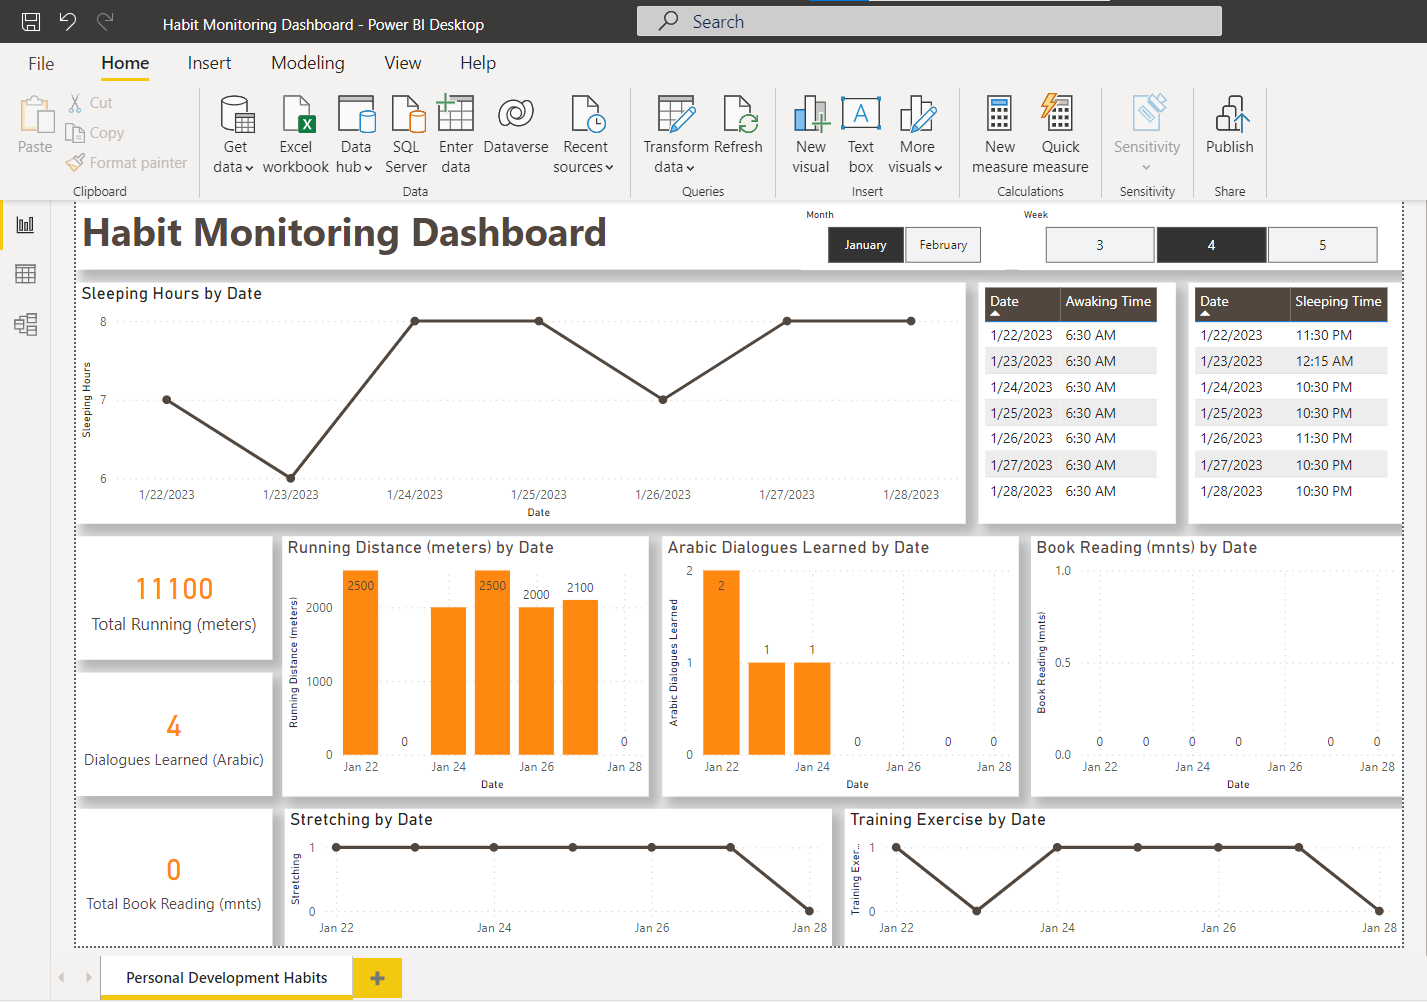

The page's visual inventory and layout, read from the dashboard file:
{"tool":"powerbi","page":{"name":"Personal Development Habits","canvas":[1280,720],"ordinal":0},"visuals":[{"type":"textbox","box":[0,0,1279.6,67.5],"z":0},{"type":"lineChart","fields":{"Category":["Dim_Date.Date"],"Y":["Sum(Fact_Data.Sleep Duration)"]},"box":[0,79.6,858.7,232.8],"z":1000},{"type":"tableEx","fields":{"Values":["Fact_Data.Date","Fact_Data.Awaking Time"]},"box":[870.8,79.6,190.6,232.8],"z":2000},{"type":"slicer","title":"Month","fields":{"Values":["Dim_Date.Month Name"]},"box":[699.5,8.4,197.8,59.1],"z":3000},{"type":"slicer","title":"Week","fields":{"Values":["Dim_Date.Week of Month"]},"box":[909.3,8.4,370.3,59.1],"z":4000},{"type":"tableEx","fields":{"Values":["Fact_Data.Date","Fact_Data.Sleeping Time"]},"box":[1073.4,79.6,206.2,232.8],"z":5000},{"type":"card","fields":{"Values":["Basic Calculations.Total Running Distance"]},"box":[0,324.4,189.3,119.4],"z":6000},{"type":"card","fields":{"Values":["Basic Calculations.Total Dialogues Learned (Arabic)"]},"box":[0,455.9,189.3,119.4],"z":7000},{"type":"card","fields":{"Values":["Basic Calculations.Total Time (Book Reading)"]},"box":[0,587.3,189.3,132.7],"z":8000},{"type":"columnChart","fields":{"Category":["Dim_Date.Date"],"Y":["Sum(Fact_Data.Running Distance (meters))"]},"box":[199,324.4,353.4,250.9],"z":9000},{"type":"columnChart","fields":{"Category":["Dim_Date.Date"],"Y":["Sum(Fact_Data.Ara_lang Dialogues Learned)"]},"box":[565.6,324.4,343.7,250.9],"z":10000},{"type":"columnChart","fields":{"Category":["Dim_Date.Date"],"Y":["Sum(Fact_Data.Book Reading (mnts))"]},"box":[921.4,324.4,358.2,250.9],"z":11000},{"type":"lineChart","fields":{"Category":["Fact_Data.Date"],"Y":["Sum(Fact_Data.Stretching)"]},"box":[201.4,587.3,528.2,132.7],"z":12000},{"type":"lineChart","fields":{"Category":["Fact_Data.Date"],"Y":["Sum(Fact_Data.Training Exercises)"]},"box":[741.7,587.3,537.9,132.7],"z":13000}]}

Visuals, with their boxes on the page's 1280x720 design canvas (x1, y1, x2, y2). These are canvas units, not pixel positions in the 1427x1002 screenshot, which may show the page scaled, cropped or inside an application window:
textbox: <box>0,0,1280,68</box>
lineChart - Dim_Date.Date x Sum(Fact_Data.Sleep Duration): <box>0,80,859,312</box>
tableEx - Fact_Data.Date x Fact_Data.Awaking Time: <box>871,80,1061,312</box>
"Month" slicer: <box>700,8,897,68</box>
"Week" slicer: <box>909,8,1280,68</box>
tableEx - Fact_Data.Date x Fact_Data.Sleeping Time: <box>1073,80,1280,312</box>
card - Basic Calculations.Total Running Distance: <box>0,324,189,444</box>
card - Basic Calculations.Total Dialogues Learned (Arabic): <box>0,456,189,575</box>
card - Basic Calculations.Total Time (Book Reading): <box>0,587,189,720</box>
columnChart - Dim_Date.Date x Sum(Fact_Data.Running Distance (meters)): <box>199,324,552,575</box>
columnChart - Dim_Date.Date x Sum(Fact_Data.Ara_lang Dialogues Learned): <box>566,324,909,575</box>
columnChart - Dim_Date.Date x Sum(Fact_Data.Book Reading (mnts)): <box>921,324,1280,575</box>
lineChart - Fact_Data.Date x Sum(Fact_Data.Stretching): <box>201,587,730,720</box>
lineChart - Fact_Data.Date x Sum(Fact_Data.Training Exercises): <box>742,587,1280,720</box>
